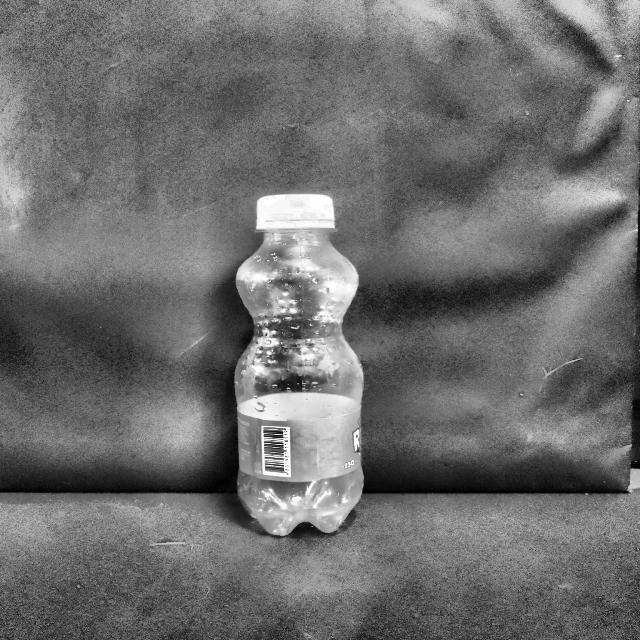Plastic-Bottle: (233, 193, 367, 538)
